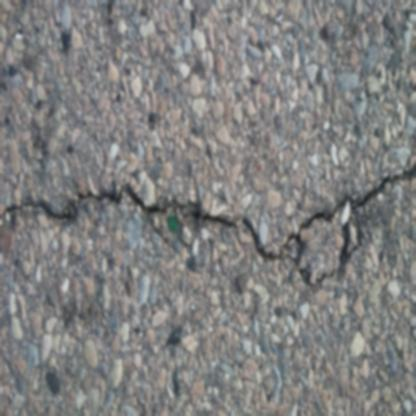Cracks: (0, 161, 415, 293)
